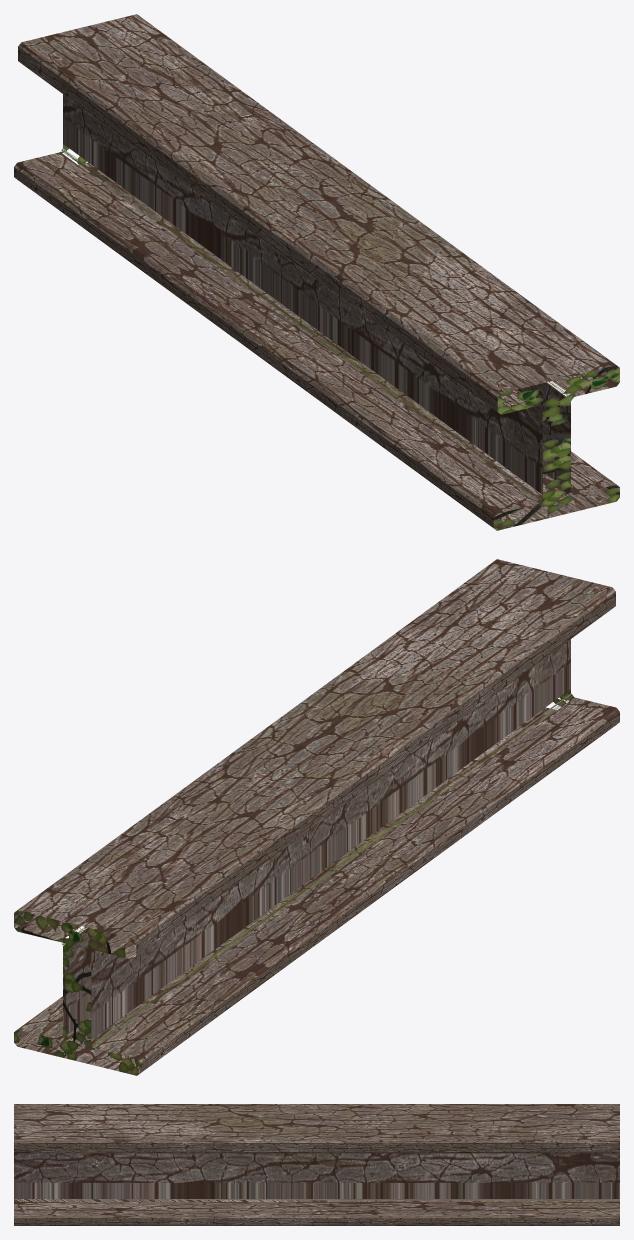
Rendered from balk_b.FBX.
3 renders of one model, top to bottom at view 1: azimuth 30°, elevation 25°; view 2: azimuth 150°, elevation 25°; view 3: azimuth 270°, elevation 25°, orthographic. The views are drawn at different scales.
Parts seen in each view (by area): view 1: balk_b; view 2: balk_b; view 3: balk_b.
Boxes of the visible parts, bbox=[...] form: balk_b: bbox=[14, 14, 619, 530]; balk_b: bbox=[14, 559, 619, 1075]; balk_b: bbox=[14, 1104, 619, 1225].
Bounding box in the file's own units: 3.1 × 20.4 × 3.2.
